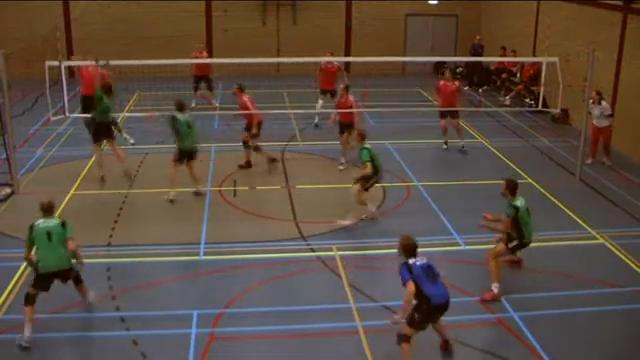Attack: (68, 50, 111, 113)
Block: (80, 48, 137, 186)
Player: (17, 200, 92, 349), (392, 235, 451, 359), (481, 178, 532, 300), (166, 100, 203, 202), (233, 83, 277, 168), (351, 129, 382, 219), (329, 84, 358, 169), (436, 69, 464, 150), (316, 52, 347, 109), (191, 63, 216, 108)
